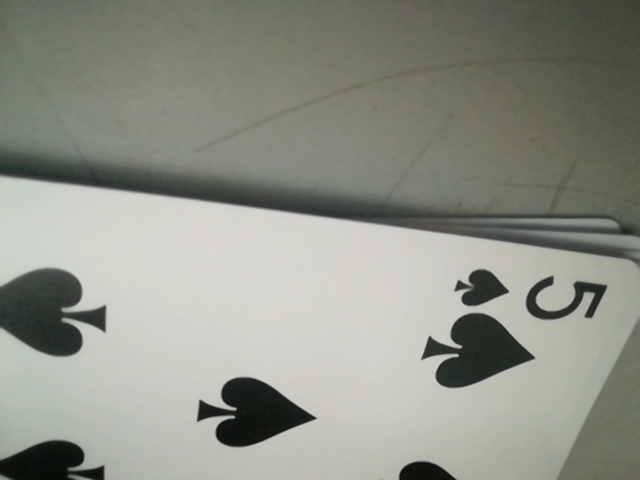ht 5: (449, 258, 613, 320)
